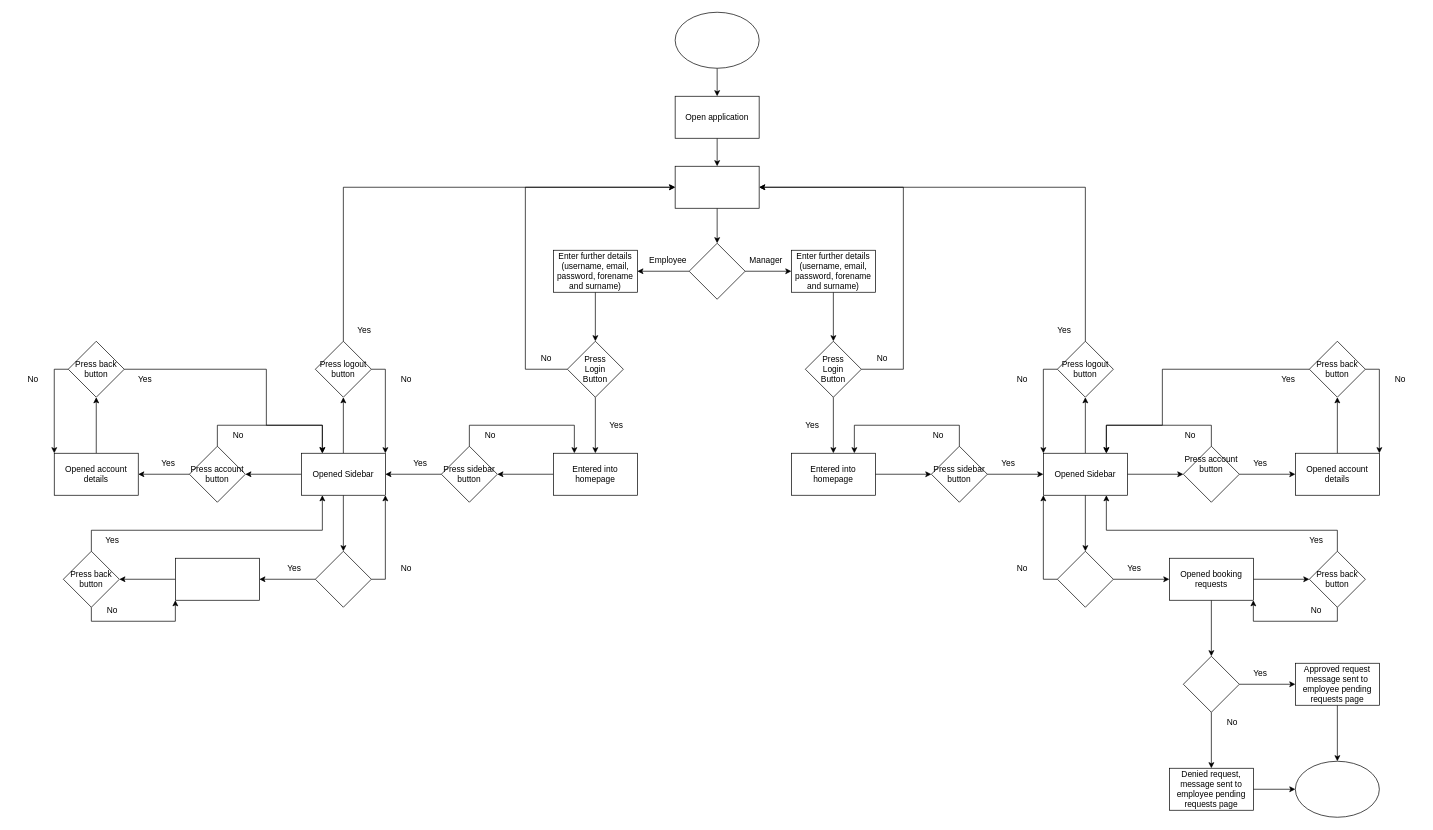
The diagram is 1433 pixels wide and 830 high, and some of its shapes have lost their labels. Each missing label, with the box of its shape:
Approve requests: (1183, 656, 1239, 712)
Choose role: (688, 243, 745, 299)
END: (1295, 761, 1379, 817)
Opened in login page: (674, 166, 759, 208)
Opened pending requests: (175, 558, 259, 600)
Press booking requests: (1057, 551, 1113, 607)
Press pending requests: (315, 551, 371, 607)
Start: (674, 12, 759, 68)
